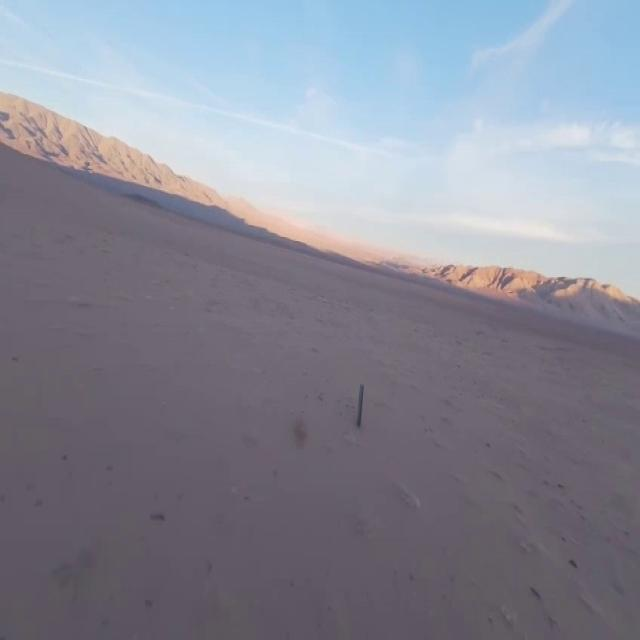Tire: (356, 384, 363, 426)
